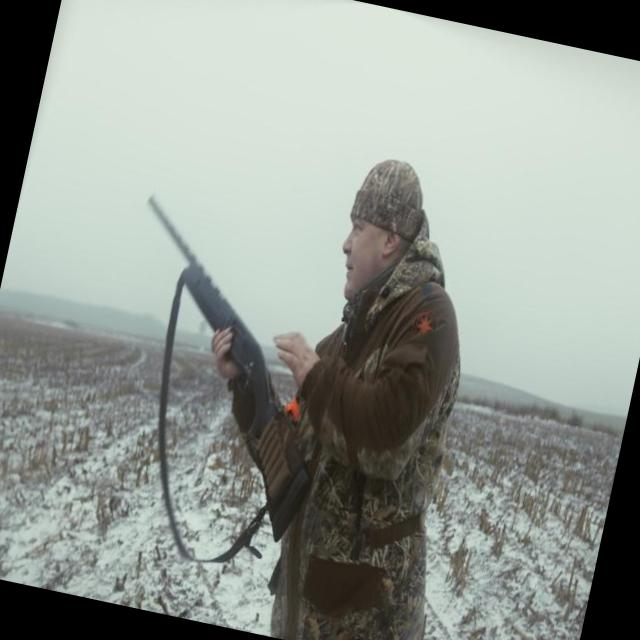ranger: (213, 106, 546, 636)
